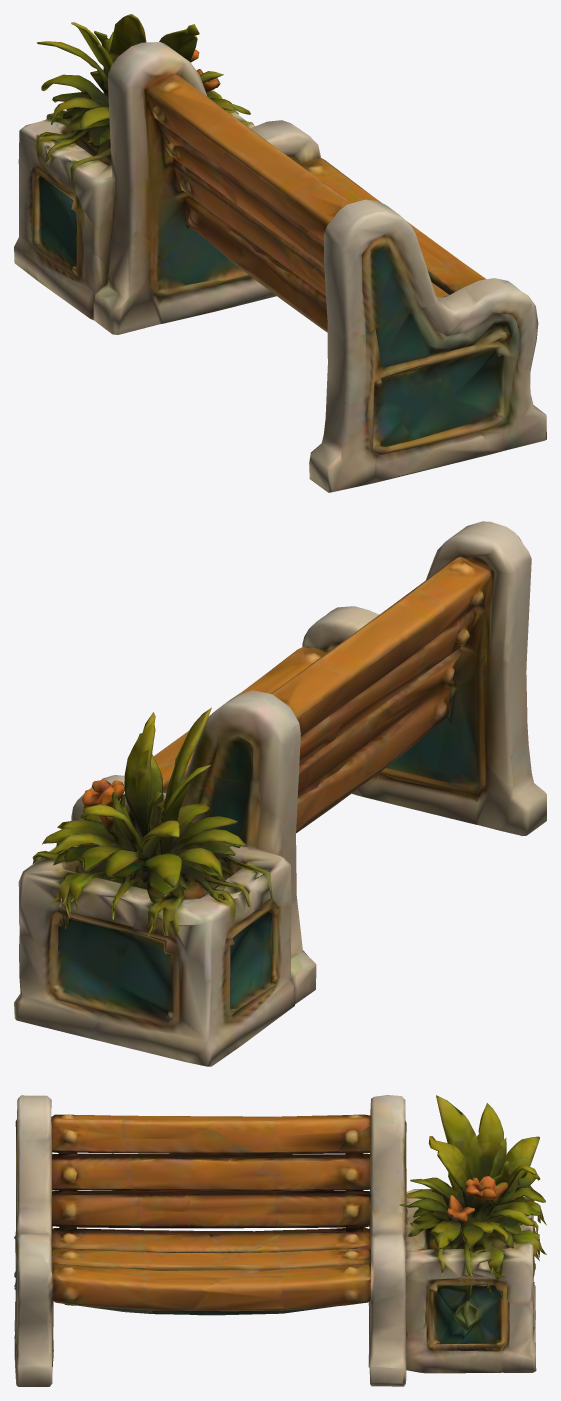
File: st02-gardenline-bench.glb
3 views of the same model, one above another, from view 1: azimuth 30°, elevation 25°; view 2: azimuth 150°, elevation 25°; view 3: azimuth 270°, elevation 25° (orthographic). The views are drawn at different scales.
Parts seen in each view (by area): view 1: tripo_node_8e1ba6eb-b27c-4b88-a6bb-68c6e0696404; view 2: tripo_node_8e1ba6eb-b27c-4b88-a6bb-68c6e0696404; view 3: tripo_node_8e1ba6eb-b27c-4b88-a6bb-68c6e0696404.
Part boxes in pixels (left/top/right/bottom): tripo_node_8e1ba6eb-b27c-4b88-a6bb-68c6e0696404: left=14, top=14, right=546, bottom=492; tripo_node_8e1ba6eb-b27c-4b88-a6bb-68c6e0696404: left=14, top=521, right=546, bottom=1066; tripo_node_8e1ba6eb-b27c-4b88-a6bb-68c6e0696404: left=14, top=1095, right=546, bottom=1386.
Bounding box in the file's own units: 0.3948 × 0.4723 × 0.999.
1 material, 1 textured.
